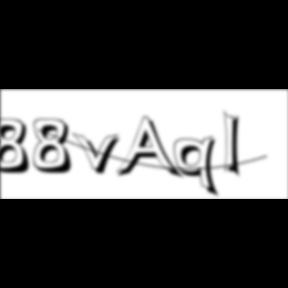8: (34, 117, 78, 176), (0, 117, 36, 176)
A: (116, 116, 186, 182)
l: (224, 108, 246, 182)
q: (174, 135, 224, 200)
v: (73, 131, 127, 177)
